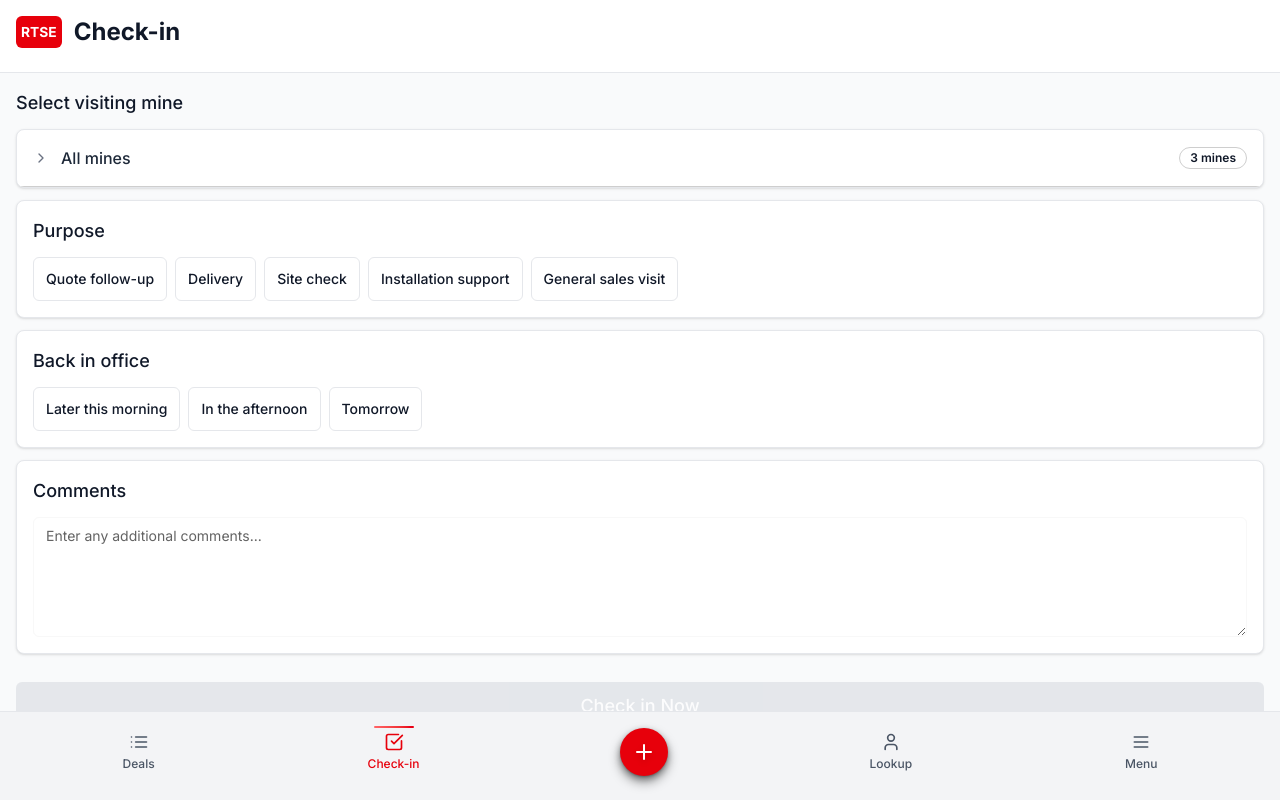
Test case: CheckInPage › shows salesperson modal when check-in button is clicked without salesperson selected
Note: Fill in all required fields
Click the heading "All mines" at (96, 158), box [61,146,131,170]
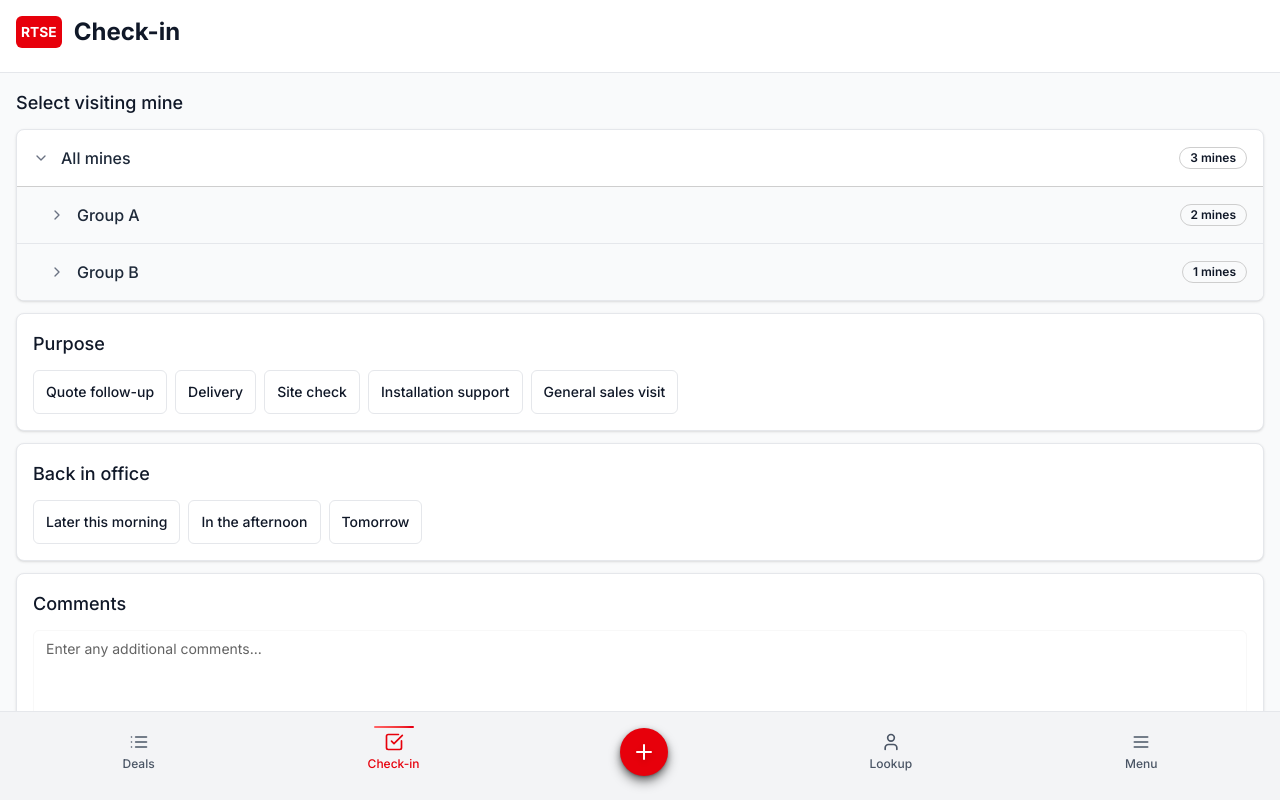
Click the heading "Group A" at (108, 215), box [77,203,140,227]
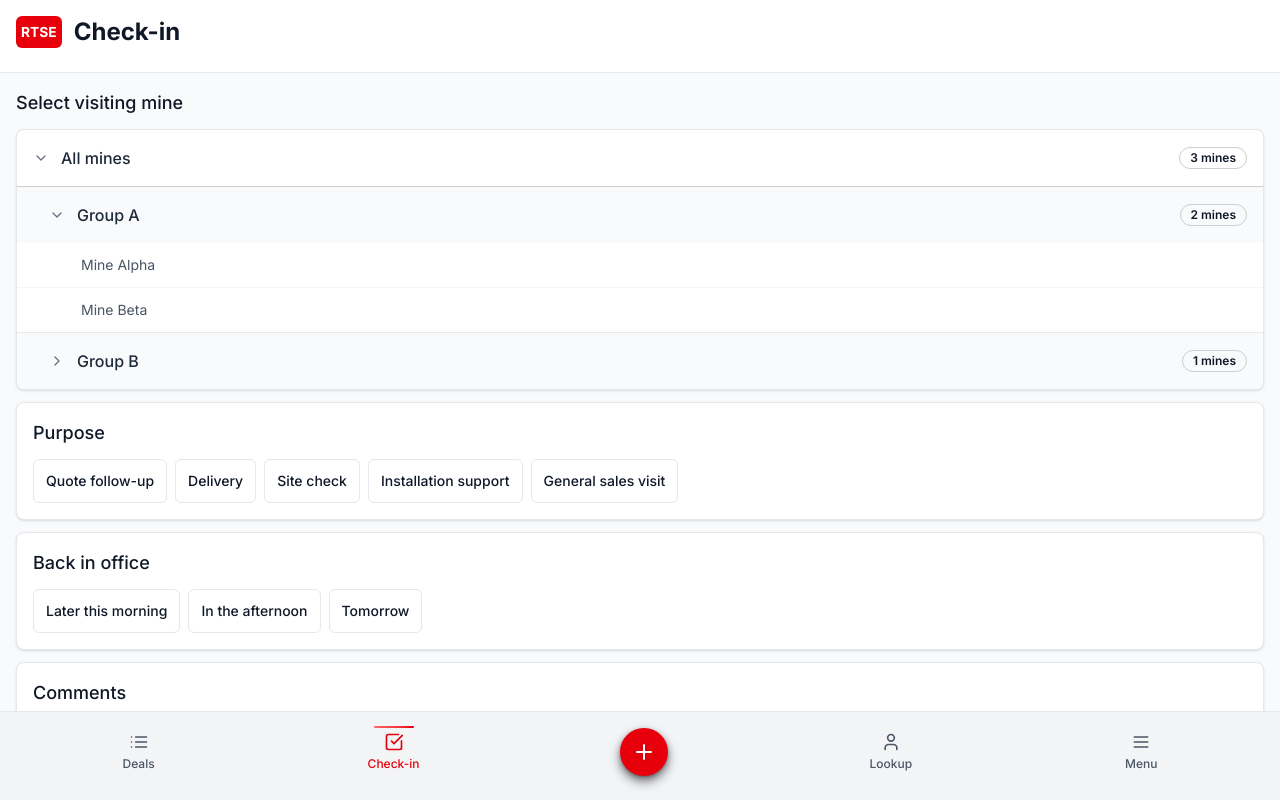
Click the text "Mine Alpha" at (118, 265), box [81,255,155,275]
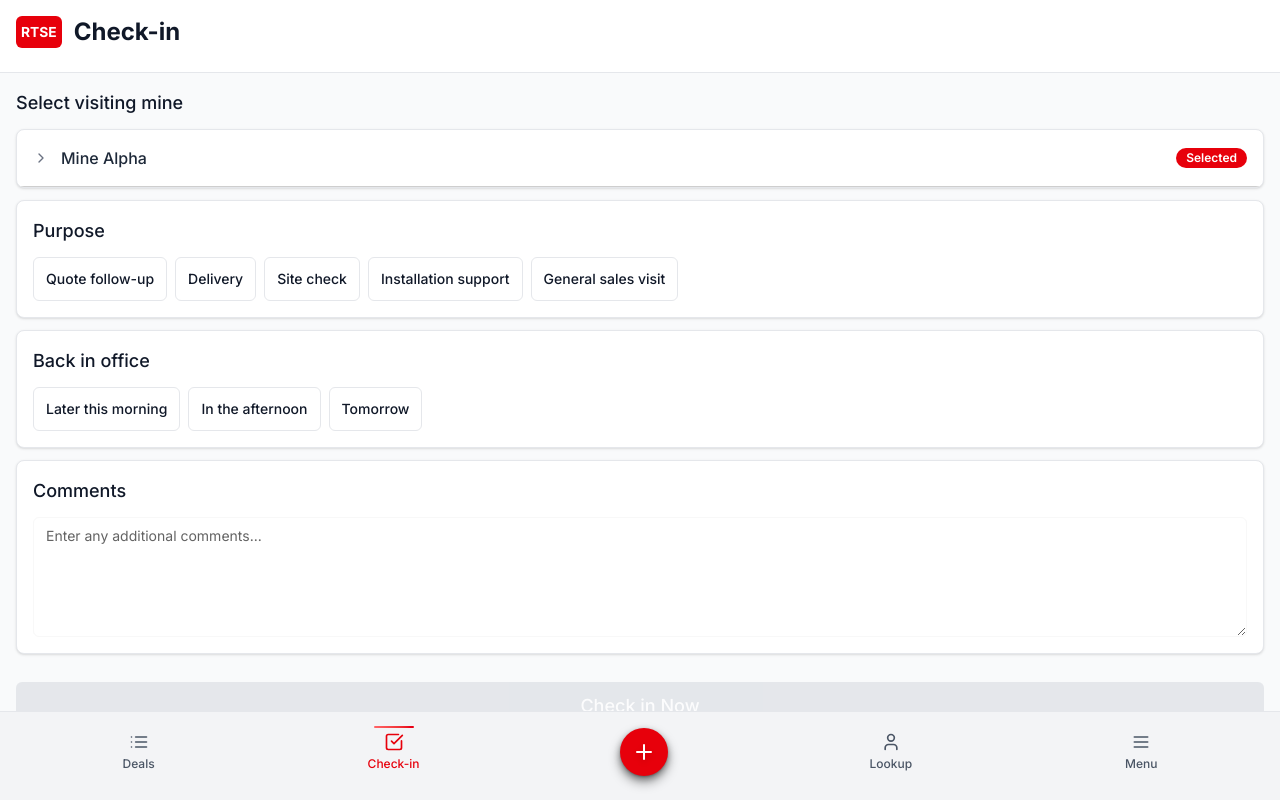
Click the button "Quote follow-up" at (100, 279), box [33,257,167,301]
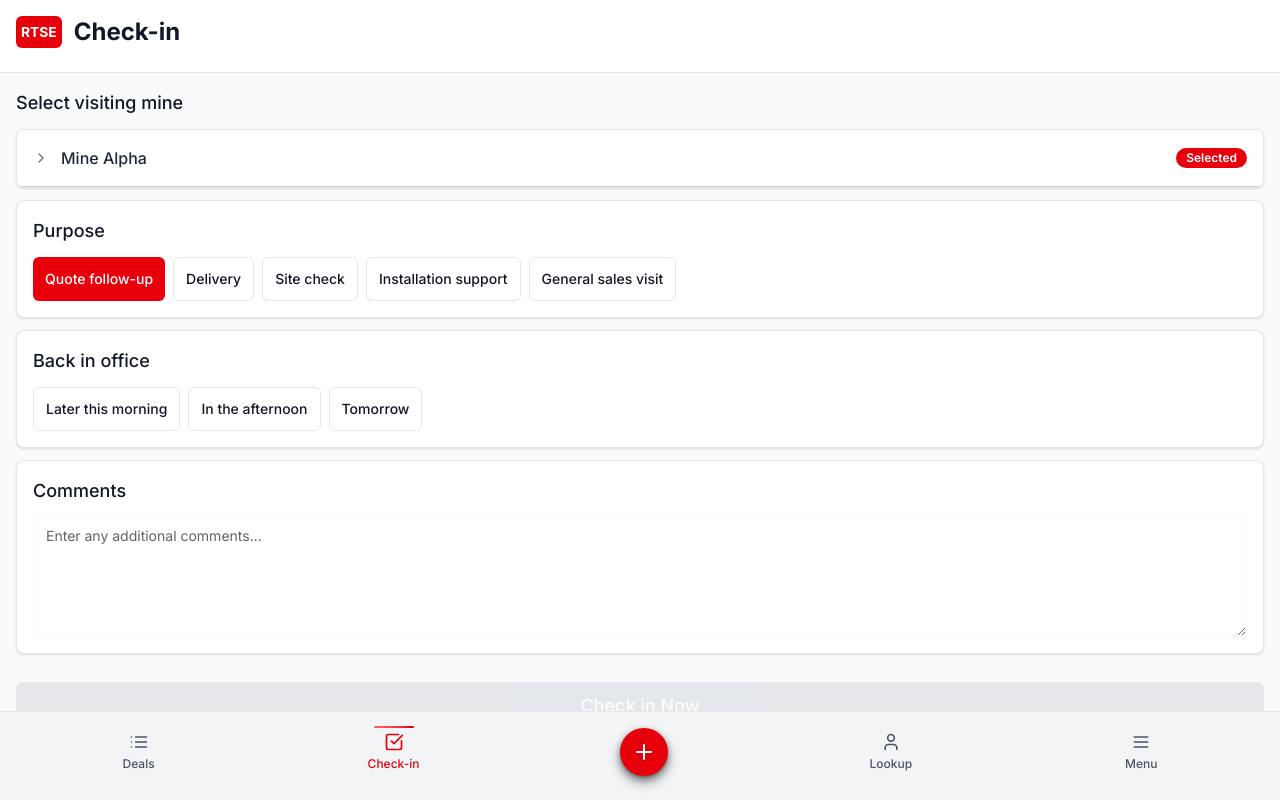
Click the button "Later this morning" at (107, 409), box [33,387,180,431]
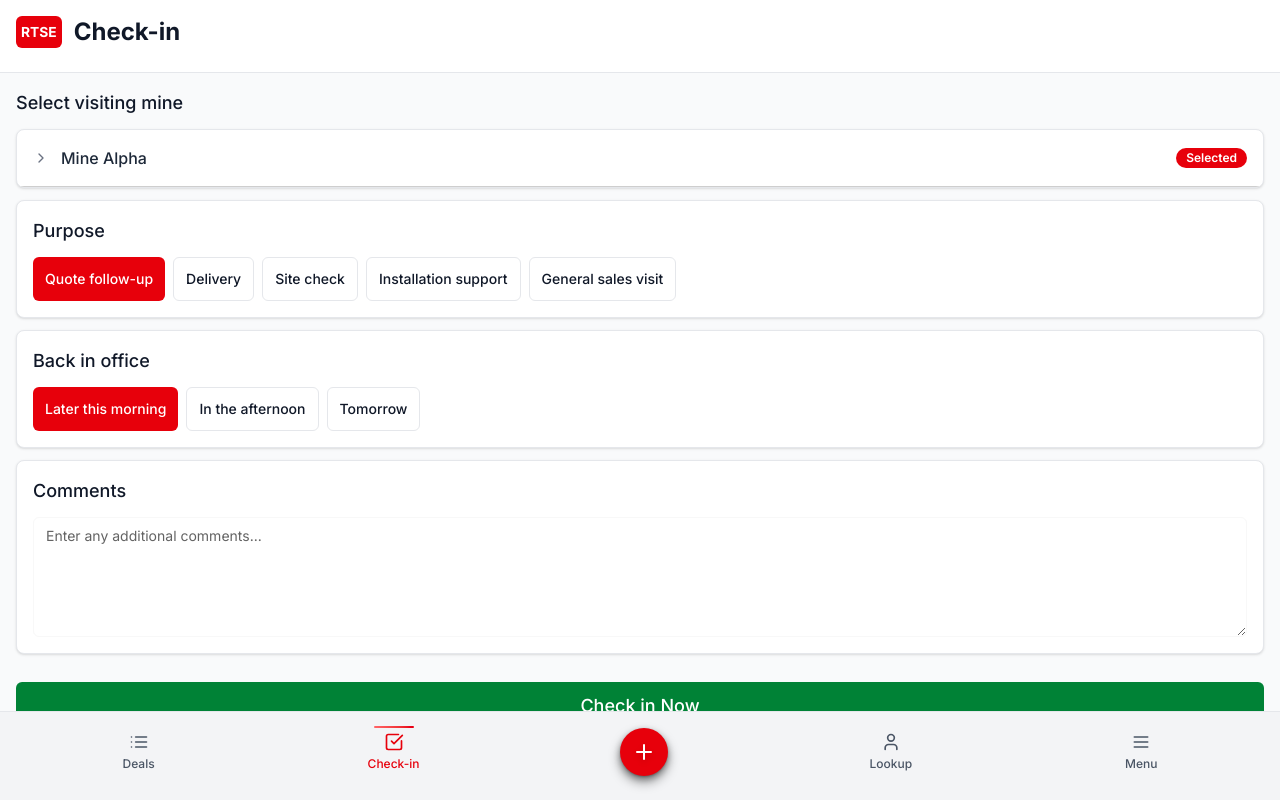
Note: Click check-in button
Click the button "Check in Now" at (640, 706), box [16,682,1264,730]
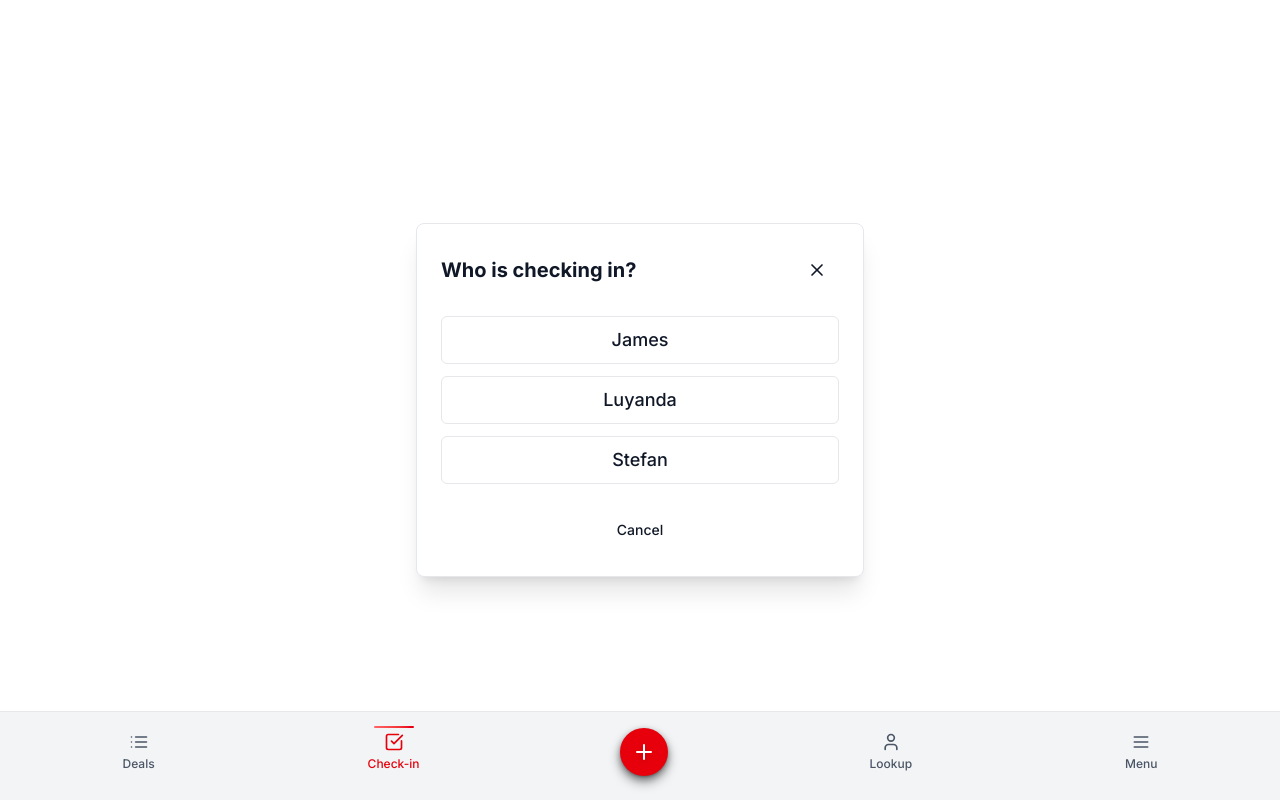
expect the heading "Who is checking in?" is shown: met, box [441,256,636,284]
expect the button "James" is shown: met, box [441,316,839,364]
expect the button "Luyanda" is shown: met, box [441,376,839,424]
